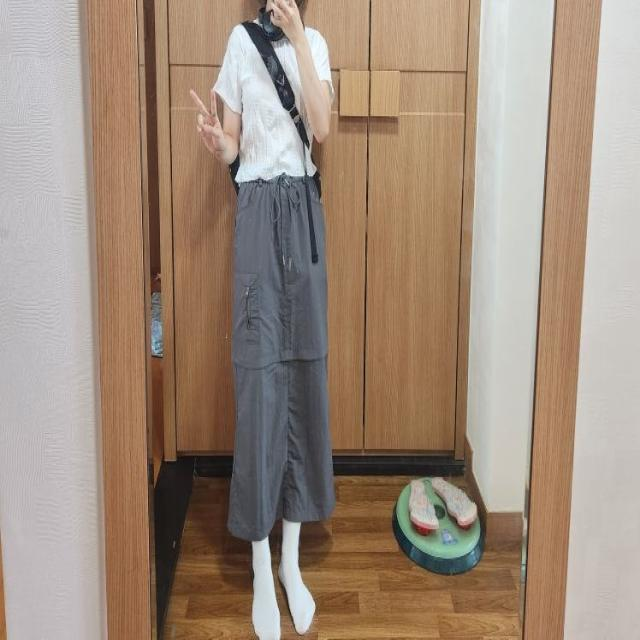shortsleeve: (212, 18, 333, 178)
skirt: (225, 170, 334, 542)
